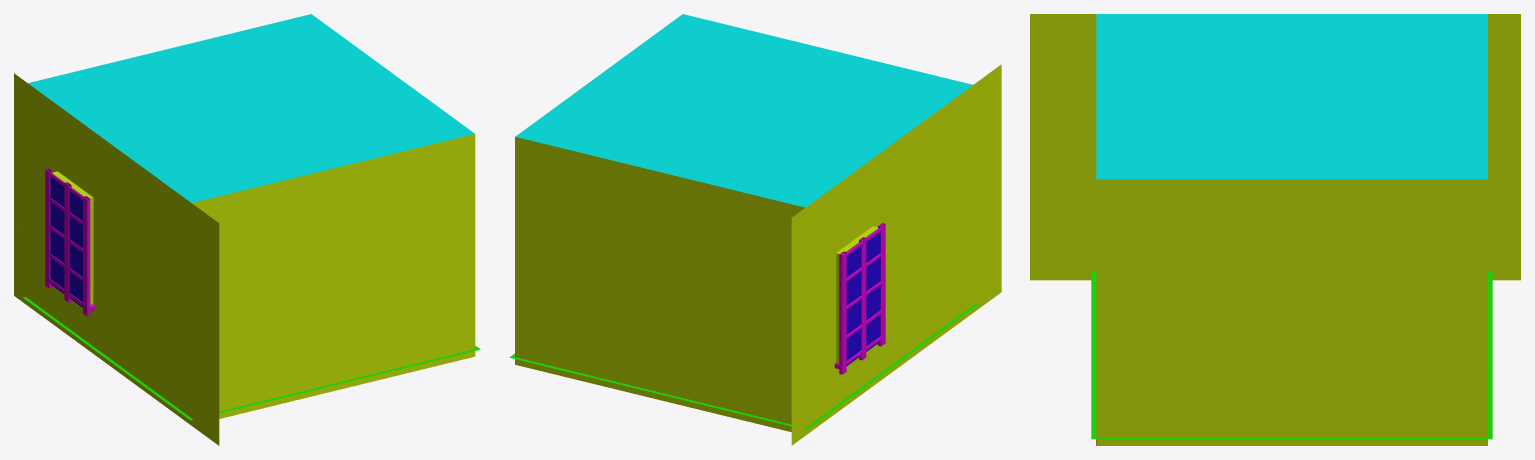
The model's file is salle_Fini.fbx.
The picture shows the model from 3 angles, left to right: view 1: azimuth 30°, elevation 25°; view 2: azimuth 150°, elevation 25°; view 3: azimuth 270°, elevation 25°; orthographic projection. The views are drawn at different scales.
Parts seen in each view (by area): view 1: mUR.027, Plafond, Plinthe; view 2: mUR.027, Plafond, Plinthe; view 3: mUR.027, Plafond, Plinthe.
Part boxes in pixels (box(x1,y1,x2,y2)): mUR.027: box(14, 73, 475, 445); Plafond: box(28, 14, 474, 202); Plinthe: box(23, 297, 480, 420); mUR.027: box(515, 64, 1001, 445); Plafond: box(515, 14, 972, 207); Plinthe: box(509, 304, 977, 429); mUR.027: box(1030, 14, 1520, 445); Plafond: box(1096, 14, 1487, 179); Plinthe: box(1091, 271, 1492, 439).
Bounding box in the file's own units: 41.44 × 29.7 × 49.59.
